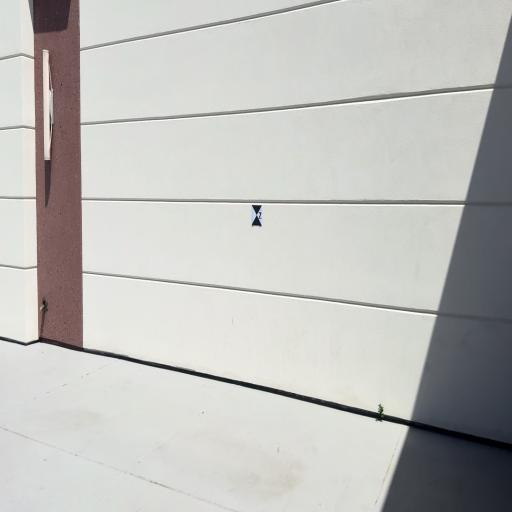target7: (252, 205, 262, 225)
